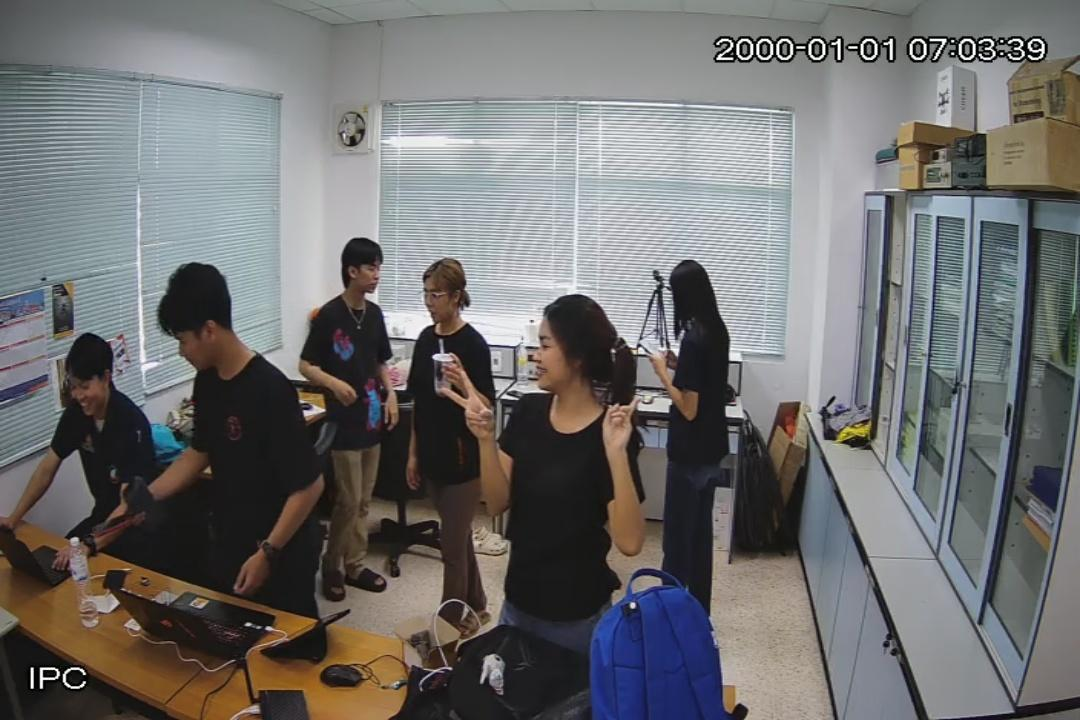normal: (146, 273, 314, 609), (489, 294, 640, 634), (0, 328, 163, 557), (301, 239, 398, 598), (414, 260, 485, 620), (665, 261, 730, 616)
